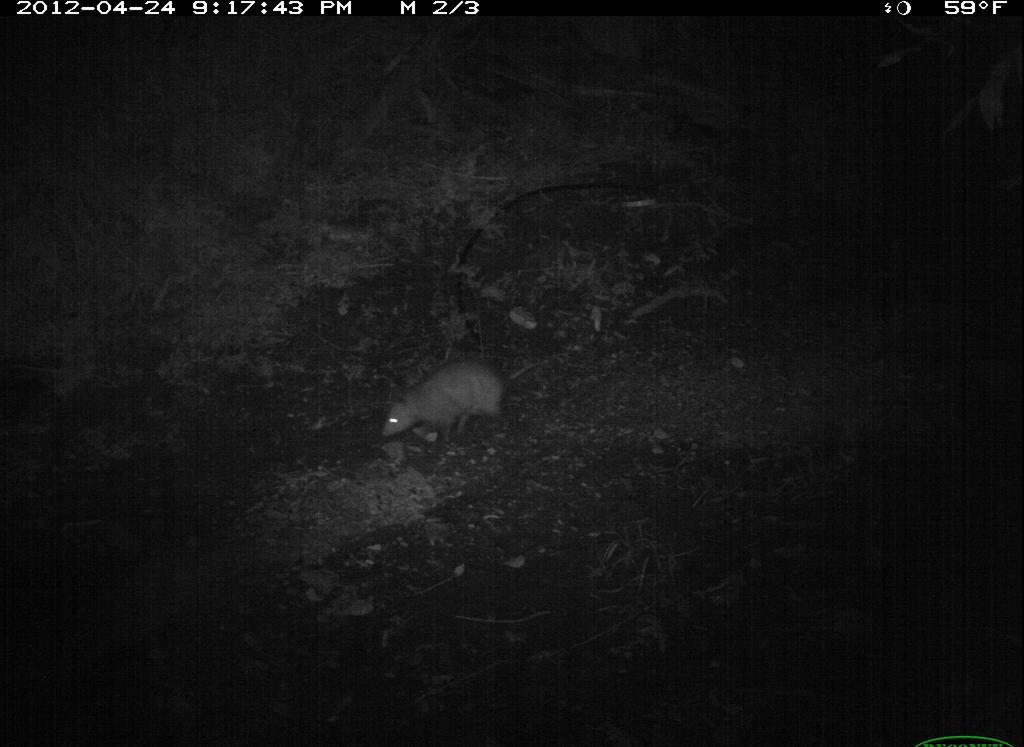opossum: (368, 354, 546, 450)
